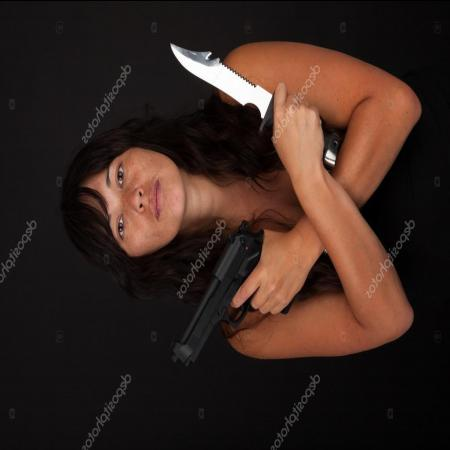long weapon: (164, 35, 328, 140)
